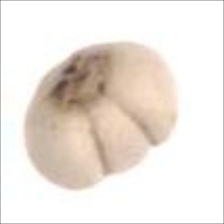L5: (86, 95, 160, 178), (38, 45, 115, 113)
L6: (20, 39, 180, 193)
